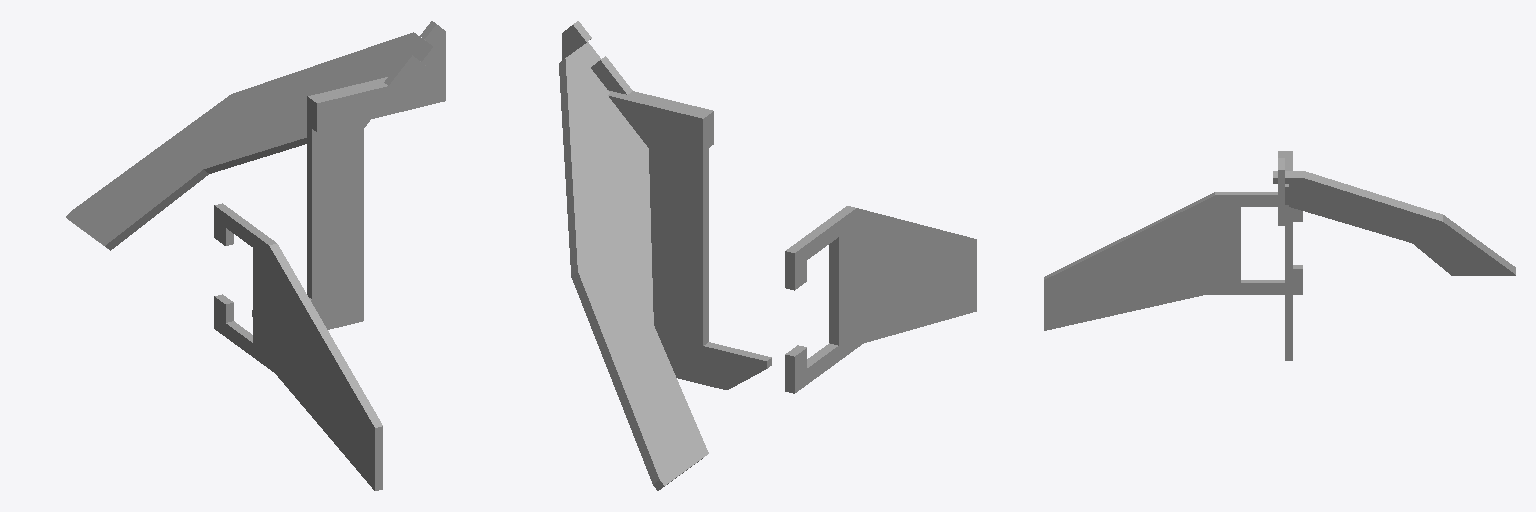
robot.urdf — Hamr:
<?xml version="1.0"?>
<robot
  name="Hamr">
  <link
    name="Chassis">
    <inertial>
      <origin
        xyz="-9.39733204324347E-02 -5.48845250802898E-04 -0.379657560961688"
        rpy="0 0 0" />
      <mass
        value="1.15747214880841" />
      <inertia
        ixx="4.70744342698378E1"
        ixy="8.36468113557807E-4"
        ixz="2.27539055367251E-1"
        iyy="6.53313432247492E1"
        iyz="-3.07162872620023E-3"
        izz="9.56926443015291E1" />
    </inertial>
    <visual>
      <origin
        xyz="0 0 0"
        rpy="0 0 0" />
      <geometry>
        <mesh
            filename="../meshes/Chassis.obj"
            scale="1000" />
      </geometry>
      <material
        name="">
        <color
          rgba="1 1 1 1" />
      </material>
    </visual>
 </link>
<!-- xyz="-9.39733204324347E-02 -5.48845250802898E-04 -0.379657560961688" -->

  <link
    name="FLS1">
    <inertial>
      <origin
        xyz="0 0 0"
        rpy="0 0 0" />
      <mass
        value="8.9854E-04" />
      <inertia
        ixx="4.0531E-4"
        ixy="0"
        ixz="0"
        iyy="1.8583E-4"
        iyz="-1.1771E-5"
        izz="2.281E-4" />
    </inertial>
    <visual>
      <origin
        xyz="0 0 0"
        rpy="0 0 0" />
      <geometry>
        <mesh
          filename="../meshes/FLS1.obj" 
            scale="1000" />
      </geometry>
      <material
        name="">
        <color
          rgba="0.69804 0.69804 0.69804 1" />
      </material>
    </visual>
  </link>
  <joint
    name="FLqsact"
    type="prismatic">
    <origin
      xyz="13.284659815390 1.456684126580 -0.478250429210"
      rpy="0 0 0" />
    <parent
      link="Chassis" />
    <child
      link="FLS1" />
    <axis
      xyz="0 1 0" />
    <limit lower="-0.3" upper="0.3" />
    <dynamics damping="0.01" />
  </joint>
  <link
    name="FLS2">
    <inertial>
      <origin
        xyz="0 3.8176 1.3953"
        rpy="0 0 0" />
      <mass
        value="7.2648E-03" />
      <inertia
        ixx="3.894E-2"
        ixy="0"
        ixz="0"
        iyy="8.899E-3"
        iyz="-9.1382E-3"
        izz="3.0111E-2" />
    </inertial>
    <visual>
      <origin
        xyz="0 0 0"
        rpy="0 0 0" />
      <geometry>
        <mesh
          filename="../meshes/FLS2.obj" 
            scale="1000" />
      </geometry>
      <material
        name="">
        <color
          rgba="0.69804 0.69804 0.69804 1" />
      </material>
    </visual>
  </link>
  <joint
    name="FLqs1"
    type="revolute">
    <origin
      xyz="0 0.77116874934 0.12648211488"
      rpy="0 0 0" />
    <parent
      link="FLS1" />
    <child
      link="FLS2" />
    <axis
      xyz="0 0 1" />
    <!--<limit lower="-pi/3" upper="pi/3" /> -->
    <dynamics damping="2.804E-2" />
   </joint>
  <link
    name="FLS3">
    <inertial>
      <origin
        xyz="0.70289 -8.6332E-02 0.10242"
        rpy="0 0 0" />
      <mass
        value="3.889E-03" />
      <inertia
        ixx="2.6158E-3"
        ixy="-5.7753E-4"
        ixz="-3.2642E-4"
        iyy="4.7809E-3"
        iyz="-8.2188E-5"
        izz="3.1897E-3" />
    </inertial>
    <visual>
      <origin
        xyz="0 0 0"
        rpy="0 0 0" />
      <geometry>
        <mesh
          filename="../meshes/FLS3.obj" 
            scale="1000" />
      </geometry>
      <material
        name="">
        <color
          rgba="1 1 1 1" />
      </material>
    </visual>
  </link>
  <joint
    name="FLqs2"
    type="revolute">
    <origin
      xyz="0 7.44214712409 2.06176831433"
      rpy="0 0 0" />
    <parent
      link="FLS2" />
    <child
      link="FLS3" />
    <axis
      xyz="0 0 1" />
    <!--<limit lower="-pi/3" upper="pi/3" />-->
    <dynamics damping="1.657E-2" />
  </joint>
 <link
    name="FLS4">
    <inertial>
      <origin
        xyz="1.4605 1.8371 3.0882"
        rpy="0 0 0" />
      <mass
        value="1.4269E-02" />
      <inertia
        ixx="1.206E-1"
        ixy="3.2785E-2"
        ixz="-2.9892E-2"
        iyy="8.3598E-2"
        iyz="2.1738E-2"
        izz="9.8829E-2" />
    </inertial>
    <visual>
      <origin
        xyz="0 0 0"
        rpy="0 0 0" />
      <geometry>
        <mesh
          filename="../meshes/FLS4.obj"
            scale="1000" />
      </geometry>
      <material
        name="">
        <color
          rgba="0.69804 0.69804 0.69804 1" />
      </material>
    </visual>
  </link>
  <joint
    name="FLqfb1"
    type="revolute">
    <origin
      xyz="1.52236486487 0.12 -1.25"
      rpy="0 0 0" />
    <parent
      link="FLS3" />
    <child
      link="FLS4" />
    <axis
      xyz="1 0 0" />
    <!--<limit lower="-pi/3" upper="pi/3" />-->
    <dynamics damping="1.914E-2" />
  </joint> 
  <link
    name="FLL1">
    <inertial>
      <origin
        xyz="-0.2102 2.5512 -5.7375E-02"
        rpy="0 0 0" />
      <mass
        value="4.5174E-03" />
      <inertia
        ixx="1.0604E-2"
        ixy="9.467E-4"
        ixz="4.1692E-4"
        iyy="2.5227E-3"
        iyz="-2.6756E-4"
        izz="1.0642E-2" />
    </inertial>
    <visual>
      <origin
        xyz="0 0 0"
        rpy="0 0 0" />
      <geometry>
        <mesh
          filename="../meshes/FLL1.obj"
            scale="1000" />
      </geometry>
      <material
        name="">
        <color
          rgba="0.69804 0.69804 0.69804 1" />
      </material>
    </visual>
  </link>
  <joint
    name="FLqlact"
    type="prismatic">
    <origin
      xyz="10.504659815390 3.151779821480 -0.501688531240"
      rpy="0 0 0" />
    <parent
      link="Chassis" />
    <child
      link="FLL1" />
    <axis
      xyz="0 1 0" />
    <limit lower="-0.3" upper="0.3" />
    <dynamics damping="0.01" />
   </joint>
  <link
    name="FLL2">
    <inertial>
      <origin
        xyz="0 0.95907 0"
        rpy="0 0 0" />
      <mass
        value="1.6211E-03" />
      <inertia
        ixx="9.976E-4"
        ixy="0"
        ixz="0"
        iyy="2.561E-3"
        iyz="0"
        izz="3.5431E-3" />
    </inertial>
    <visual>
      <origin
        xyz="0 0 0"
        rpy="0 0 0" />
      <geometry>
        <mesh
          filename="../meshes/FLL2.obj"
            scale="1000" />
      </geometry>
      <material
        name="">
        <color
          rgba="1 1 1 1" />
      </material>
    </visual>/
  </link>
  <joint
    name="FLql1"
    type="revolute">
    <origin
      xyz="0 4.57322017852 0.38168853124"
      rpy="0 0 0" />
    <parent
      link="FLL1" />
    <child
      link="FLL2" />
    <axis
      xyz="1 0 0" />
    <!--<limit lower="-pi/3" upper="pi/3" />-->
    <dynamics damping="6.366E-2" />
  </joint>
  <link
    name="FLL3">
    <inertial>
      <origin
        xyz="0.11652 -7.2167E-02 -0.5651"
        rpy="0 0 0" />
      <mass
        value="4.2308E-03" />
      <inertia
        ixx="2.4566E-3"
        ixy="-9.4738E-5"
        ixz="3.1854E-4"
        iyy="5.8098E-3"
        iyz="4.7676E-4"
        izz="4.4079E-3" />
    </inertial>
    <visual>
      <origin
        xyz="0 0 0"
        rpy="0 0 0" />
      <geometry>
        <mesh
          filename="../meshes/FLL3.obj"
            scale="1000" />
      </geometry>
      <material
        name="">
        <color
          rgba="0.69804 0.69804 0.69804 1" />
      </material>
    </visual>
  </link>
  <joint
    name="FLql2"
    type="revolute">
    <origin
      xyz="0 1.945 0"
      rpy="0 0 0" />
    <parent
      link="FLL2" />
    <child
      link="FLL3" />
    <axis
      xyz="1 0 0" />
    <!--<limit lower="-pi/3" upper="pi/3" />-->
    <dynamics damping="1.657E-2" />
  </joint>
  <link
    name="FLL4">
    <inertial>
      <origin
        xyz="-2.4877 1.5376 -1.509"
        rpy="0 0 0" />
      <mass
        value="1.3954E-02" />
      <inertia
        ixx="9.0239E-2"
        ixy="-1.1755E-2"
        ixz="-2.5436E-2"
        iyy="8.3778E-2"
        iyz="-2.6868E-2"
        izz="1.2261E-1" />
    </inertial>
    <visual>
      <origin
        xyz="0 0 0"
        rpy="0 0 0" />
      <geometry>
        <mesh
          filename="../meshes/FLL4.obj"
            scale="1000" />
      </geometry>
      <material
        name="">
        <color
          rgba="0.69804 0.69804 0.69804 1" />
      </material>
    </visual>
  </link>
  <joint
    name="FLqfb3"
    type="revolute">
    <origin
      xyz="2.25 0.12 -1.07"
      rpy="0 0 0" />
    <parent
      link="FLL3" />
    <child
      link="FLL4" />
    <axis
      xyz="0 0 1" />
    <!--<limit lower="-pi/3" upper="pi/3" />-->
    <dynamics damping="1.657E-2" />
  </joint>
  <link
    name="FLLeg">
    <inertial>
      <origin
        xyz="0 0 0"
        rpy="0 0 0" />
      <mass
        value="1.6993E-02" />
      <inertia
        ixx="2.0657E-1"
        ixy="9.954E-6"
        ixz="-1.1711E-5"
        iyy="1.0894E-1"
        iyz="9.3123E-2"
        izz="9.8198E-2" />
    </inertial>
    <visual>
      <origin
        xyz="0 0 0"
        rpy="0 0 0" />
      <geometry>
        <mesh
          filename="../meshes/Leg.obj"
            scale="1000" />
      </geometry>
      <material
        name="">
        <color
          rgba="1 1 1 1" />
      </material>
    </visual>
      <collision>
          <origin xyz="0 2.93632594836 -6.04673961322"/>
          <geometry>
              <sphere radius="0" />
          </geometry>
      </collision>
    </link>
  <joint
    name="FLLegJoint"
    type="fixed">
    <origin
      xyz="6E-02 4.64367405164 -4.80326038678"
      rpy="0 0 0" />
    <parent
      link="FLL4" />
    <child
      link="FLLeg" />
    <axis
      xyz="0 0 0" />
  </joint>














  <!--- Loop Joints -->

  <loop_joint name="FLqs3" type="continuous">
    <axis xyz="0 0 1" />
    <link1 link="Chassis" rpy="0 0 0" 
      xyz="12.754659815390  9.790000000000   1.710000000000" />
    <link2 link="FLS3" rpy="0 0 0" xyz= "-0.53, 0.12, 0.0" />
  </loop_joint>

  <loop_joint name="FLql3" type="continuous">
    <axis xyz="1 0 0" />
    <link1 link="Chassis" rpy="0 0 0"
        xyz="10.504659815390  9.790000000000   0.460000000000"/>
    <link2 link="FLL3"  rpy="0 0 0" xyz= "0.0, 0.12, 0.58"/>
  </loop_joint>

  <loop_joint  name="FLqfb2"  type="continuous">
    <axis xyz="0 1 0" />
    <link1 link="FLS4" rpy="0 0 0" 
      xyz="-2.05236472111 5.98079552649 0.0"/> 
    <link2 link="FLL4" rpy="0 0 0"
      xyz="0.0 5.98079552649 1.64999985615" />
  </loop_joint>

  











<!-- Swing Springs -->

<force_element name="FL_ks1">
  <torsional_spring stiffness="9.2E-2" rest_angle="0">
  	<joint name="FLqs1" />
   </torsional_spring>
 </force_element>

 <force_element name="FL_ks2">
  <torsional_spring stiffness="3.4E-2" rest_angle="0">
  	<joint name="FLqs2" />
   </torsional_spring>
 </force_element>

<!--Lift Springs -->

<force_element name="FL_kl1">
  <torsional_spring stiffness="2E-1" rest_angle="0">
  	<joint name="FLql1" />
   </torsional_spring>
 </force_element>

 <force_element name="FL_kl2">
  <torsional_spring stiffness="3.4E-2" rest_angle="0">
  	<joint name="FLql2" />
   </torsional_spring>
 </force_element>

<!--SFB Springs -->

 <force_element name="FL_kfb1">
  <torsional_spring stiffness="6E-2" rest_angle="0">
  	<joint name="FLqfb1" />
   </torsional_spring>
 </force_element>

 <force_element name="FL_kfb3">
  <torsional_spring stiffness="3.4E-2" rest_angle="0">
  	<joint name="FLqfb3" />
  </torsional_spring>
 </force_element>










 <!-- Actuator Springs --> 

  <force_element name="FL_ksact">
    <prismatic_spring stiffness="1.1556" rest_length="0">
      <joint name="FLqsact" />
    </prismatic_spring>
  </force_element>

  <force_element name="FL_klact">
     <prismatic_spring stiffness="2.3452" rest_length="0">
      <joint name="FLqlact" />
    </prismatic_spring>
  </force_element>









<!--- Actuator Inputs -->

<transmission type="SimpleTransmission" name="FLSwing">
    <actuator name="FLsact" />
    <joint name="FLqsact" />
    <mechanicalReduction>1</mechanicalReduction>
</transmission>

<transmission type="SimpleTransmission" name="FLLift">
    <actuator name="FLlact" />
    <joint name="FLqlact" />
    <mechanicalReduction>1</mechanicalReduction>
</transmission>
    
</robot>

--- What the picture shows (computed from the rendered views, not written in the file) ---
The picture shows the robot from 3 angles, left to right: view 1: azimuth 30°, elevation 25°; view 2: azimuth 150°, elevation 25°; view 3: azimuth 270°, elevation 25°; orthographic projection.
Model Hamr with 10 links and 9 joints (6 revolute, 2 prismatic, 1 fixed), rooted at Chassis, posed all joints at 0.
Visible links, largest first — view 1: FLS4, FLS2; view 2: FLS4, FLS2; view 3: FLS2, FLS4.
Link boxes in pixels (bbox=[...]): FLS4: bbox=[66, 21, 445, 329]; FLS2: bbox=[214, 203, 382, 490]; FLS4: bbox=[559, 21, 771, 490]; FLS2: bbox=[785, 206, 976, 393]; FLS2: bbox=[1044, 192, 1302, 330]; FLS4: bbox=[1273, 151, 1515, 360].
Size in the robot's own frame: 6.7 by 14.56 by 8.56 metres.
Meshes: 10 distinct files referenced, 2 mesh visuals loaded (2 OBJ); not drawn: 8 (reference not matched to a file when rendering).